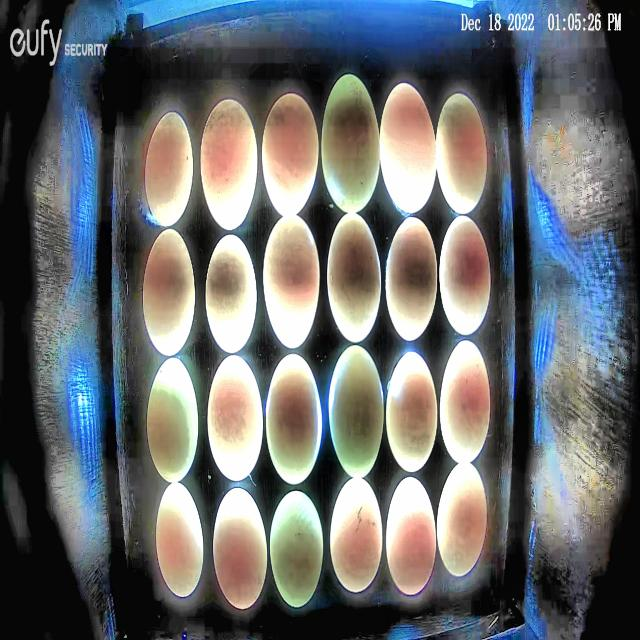UF: (320, 72, 381, 215), (262, 212, 321, 350), (198, 98, 258, 231), (378, 81, 437, 214), (326, 210, 382, 344), (329, 343, 384, 479), (266, 353, 323, 484), (207, 354, 263, 483), (262, 93, 318, 217), (212, 486, 268, 610), (143, 227, 196, 357), (385, 215, 438, 342), (146, 356, 199, 483), (269, 489, 325, 608), (204, 233, 258, 356), (384, 475, 438, 596), (438, 214, 491, 336), (435, 92, 487, 216), (440, 339, 491, 464), (386, 352, 438, 472), (329, 477, 383, 592), (435, 460, 487, 577), (144, 110, 195, 226), (155, 482, 205, 598)
